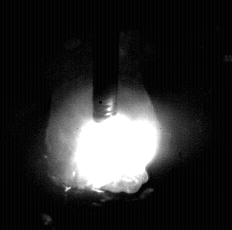arame: (93, 0, 119, 122)
poca: (47, 0, 160, 230)
